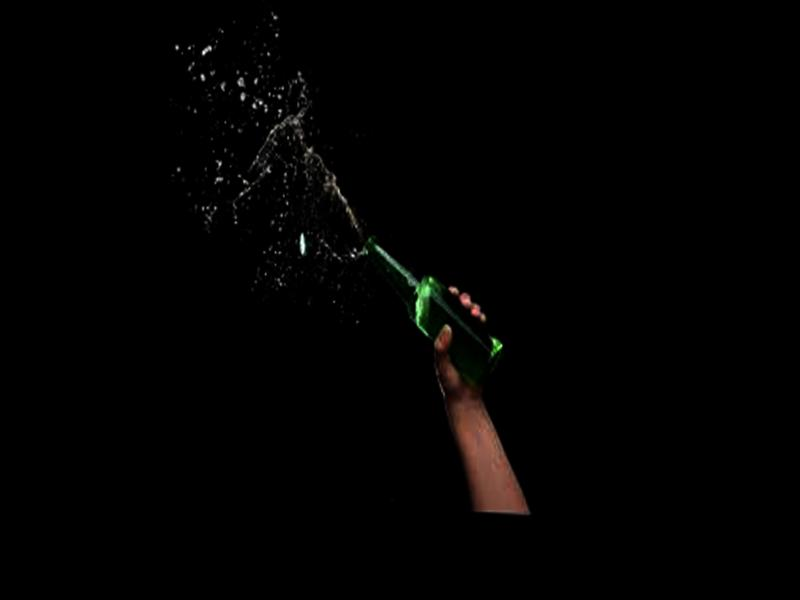Beer: (361, 237, 508, 390)
